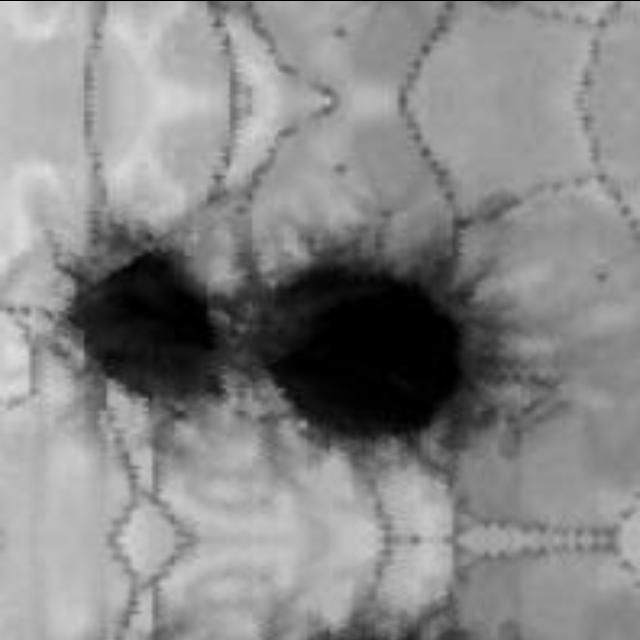good_void: (232, 225, 559, 466), (48, 227, 230, 420), (595, 268, 609, 284), (335, 163, 347, 176), (335, 25, 347, 38)
